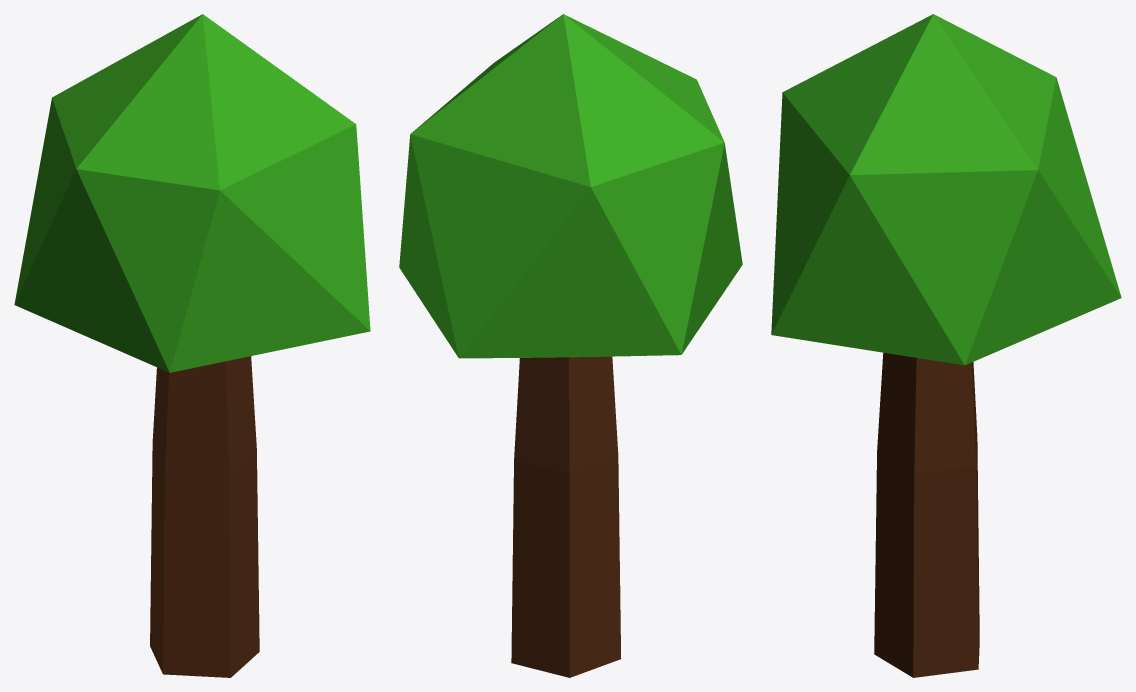
Rendered from tree2.fbx.
The picture shows the model from 3 angles, left to right: view 1: azimuth 30°, elevation 25°; view 2: azimuth 150°, elevation 25°; view 3: azimuth 270°, elevation 25°; orthographic projection.
Parts seen in each view (by area): view 1: Cylinder; view 2: Cylinder; view 3: Cylinder.
Part boxes in pixels (left/top/right/bottom): Cylinder: left=14, top=14, right=370, bottom=677; Cylinder: left=399, top=14, right=742, bottom=677; Cylinder: left=771, top=14, right=1121, bottom=677.
Bounding box in the file's own units: 2.66 × 5.39 × 2.67.
